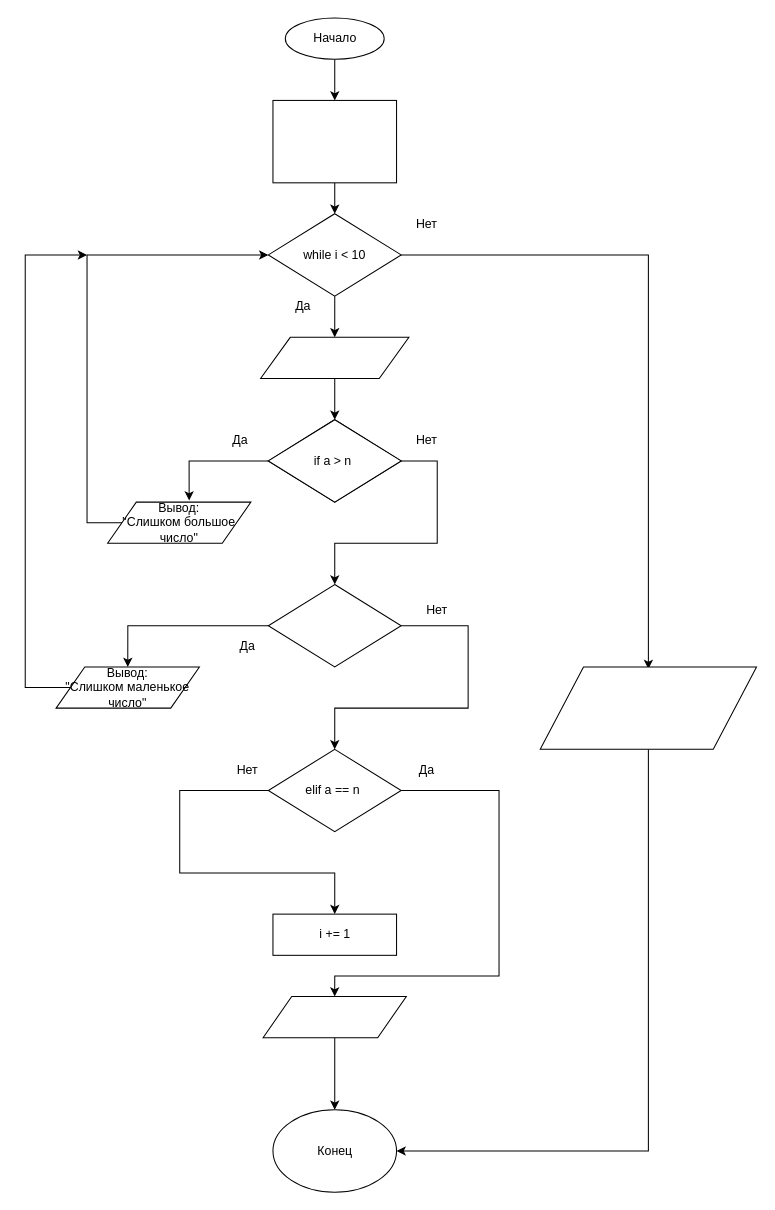
This 775x1210 diagram has some shape labels left out. The centre of each missing label's shape, as x and y in pixels:
elif a < n: point 334,625
n = round(random()*100) i = 1: point 334,141
Ввод: a: point 334,357
Вывод: "Вы исчерпали 10 попыток. Загаданное число n ": point 648,707
Вывод: "Вы угадали с i-й попытки ": point 334,1016
